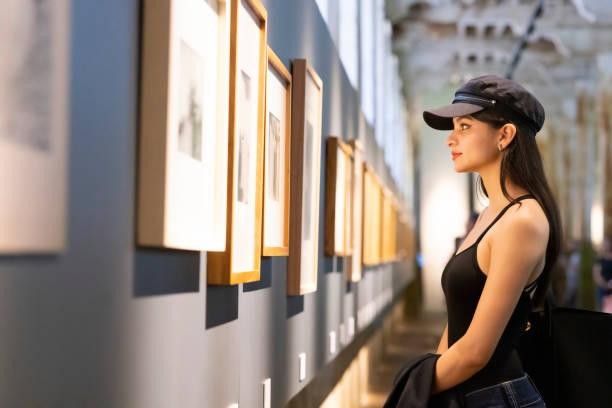no_goggle: (442, 116, 511, 143)
no_helmet: (419, 71, 550, 130)
no_vest: (426, 195, 565, 391)
